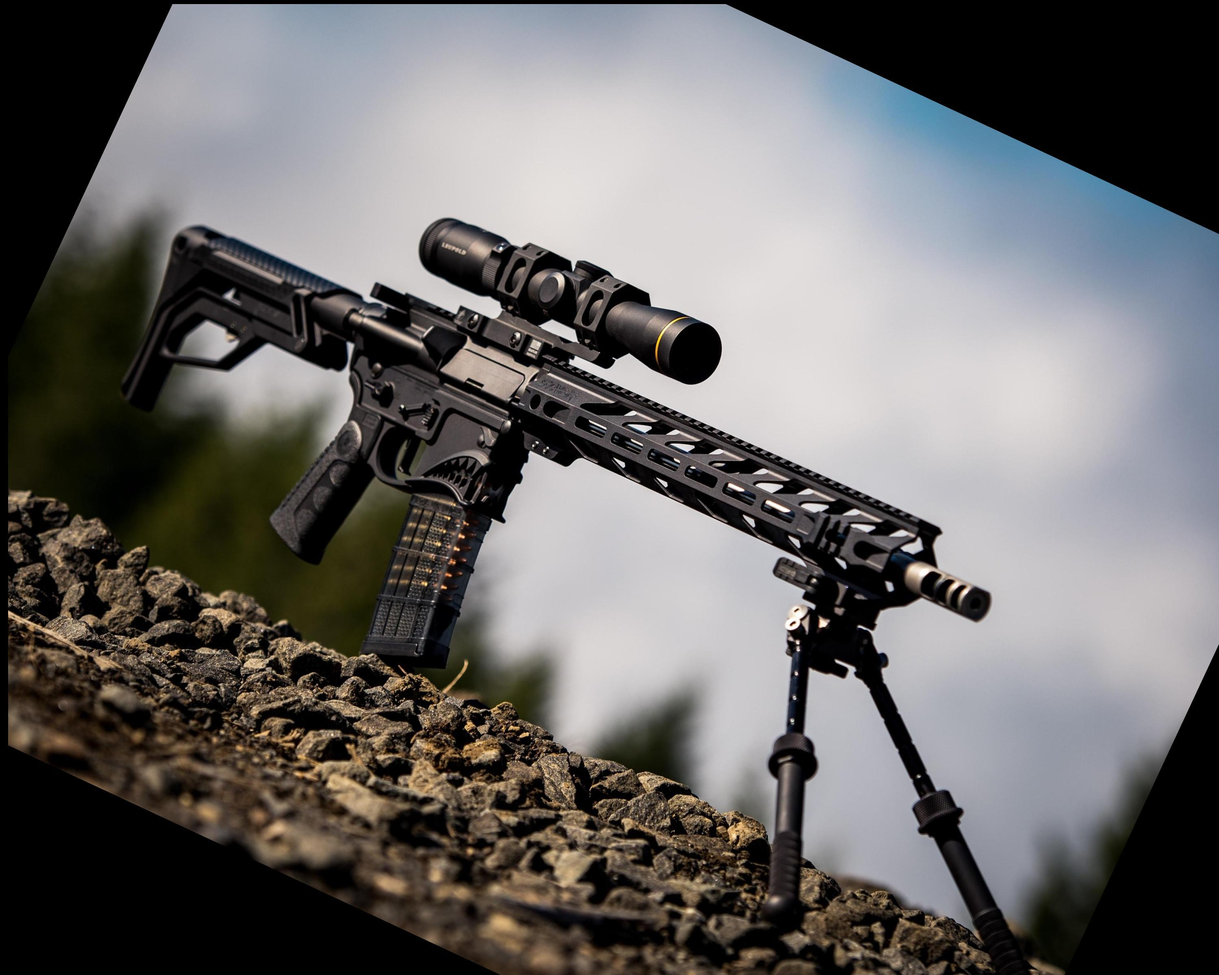larga: (118, 215, 1032, 975)
